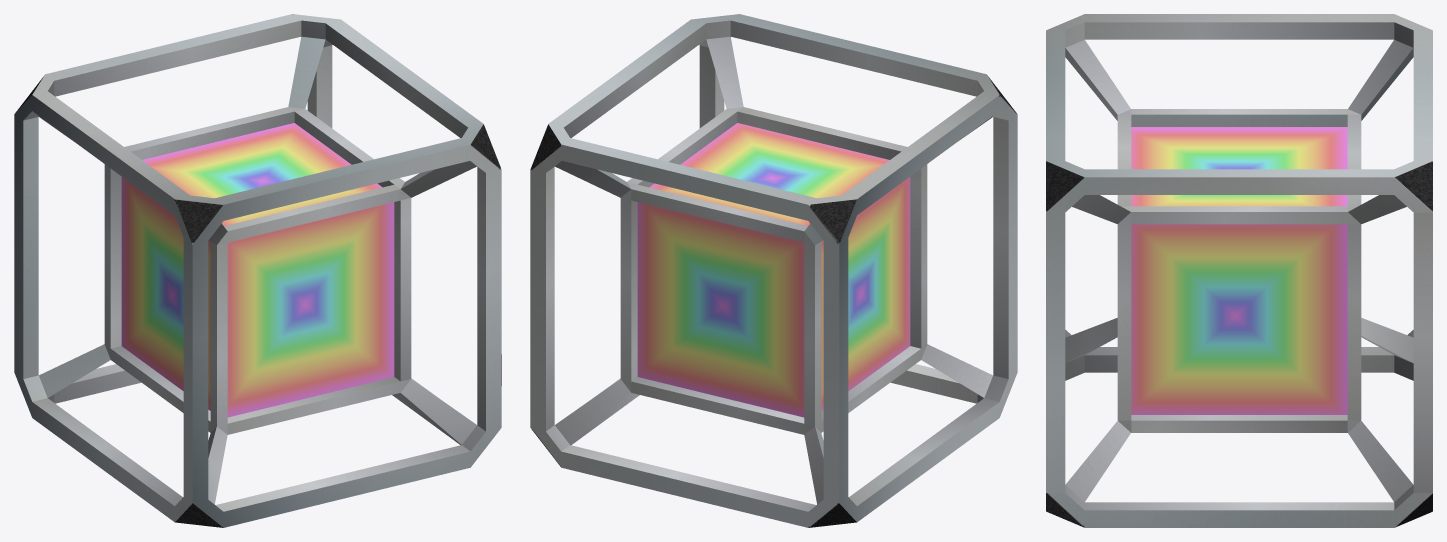
The model's file is block.obj.
The picture shows the model from 3 angles, left to right: view 1: azimuth 30°, elevation 25°; view 2: azimuth 150°, elevation 25°; view 3: azimuth 270°, elevation 25°; orthographic projection. The views are drawn at different scales.
Parts seen in each view (by area): view 1: Cube.001; view 2: Cube.001; view 3: Cube.001.
Boxes of the visible parts, x1,y1,x2,y2 form: Cube.001: (14,14,501,527); Cube.001: (530,14,1017,527); Cube.001: (1046,14,1432,527).
Size of the model in its own units: 1 by 1 by 1.
